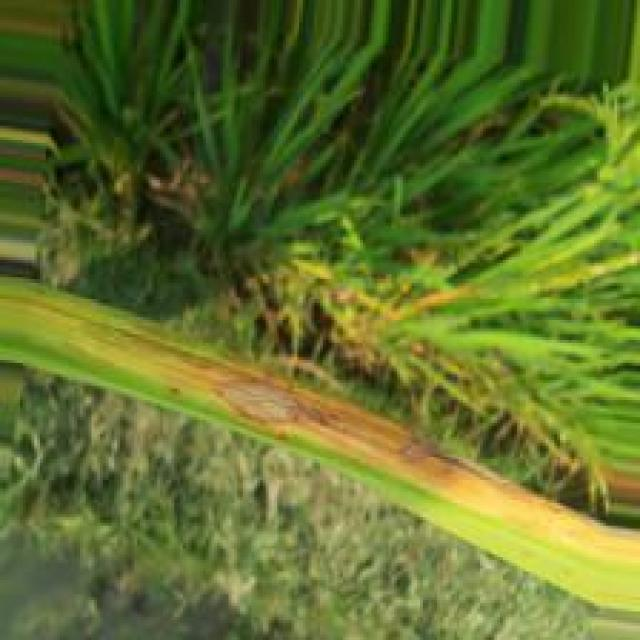Rice Tungro: (386, 430, 537, 511), (203, 379, 333, 442)
